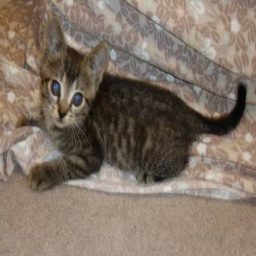cat: (23, 21, 245, 199)
